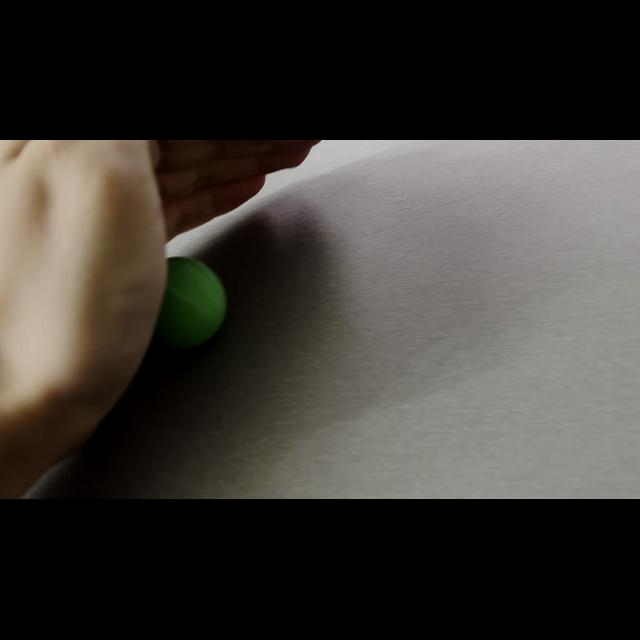objects: (150, 251, 236, 357)
